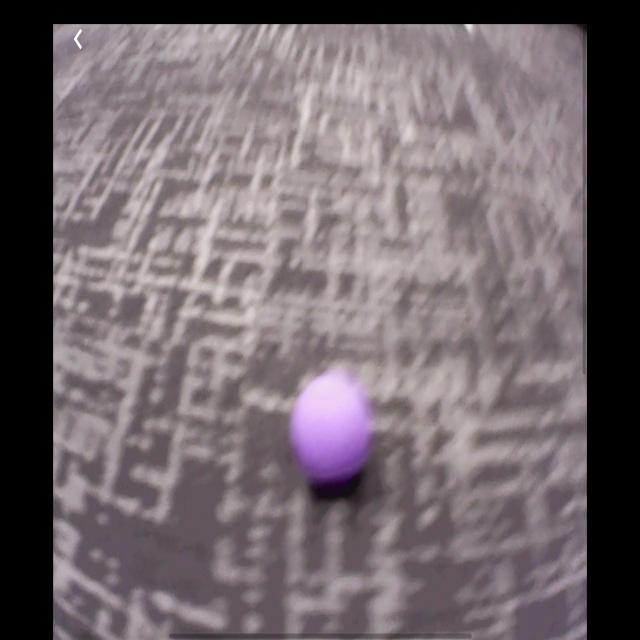ball: (292, 373, 368, 482)
